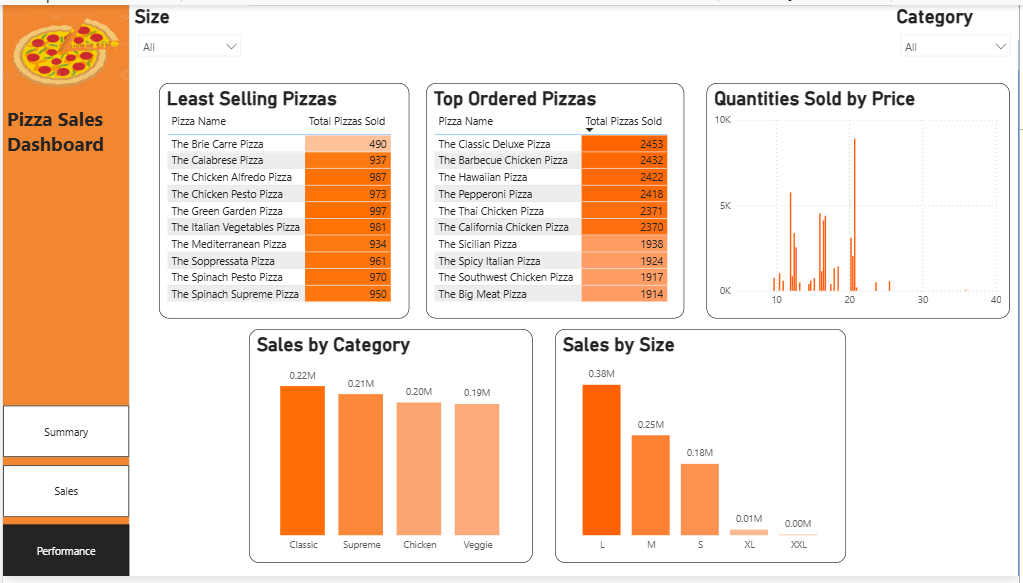

What the dashboard file says about the page in this screenshot:
{"tool":"powerbi","page":{"name":"Performance","canvas":[1280,720],"ordinal":2},"visuals":[{"type":"shape","box":[159.1,0,1121.4,720.5],"z":0},{"type":"image","box":[0,0,159.1,120.9],"z":1000},{"type":"pageNavigator","box":[0,504.2,159.1,216.3],"z":2000},{"type":"textbox","box":[0,120.9,159.1,76.3],"z":3000},{"type":"clusteredColumnChart","title":"Sales by Category","fields":{"Y":["Calculations.Total Sales"],"Category":["pizza_types.category"]},"box":[309.9,408.2,357.2,294.8],"z":4000},{"type":"clusteredColumnChart","title":"Sales by Size","fields":{"Category":["pizzas.size"],"Y":["Calculations.Total Sales"]},"box":[695.4,408.2,366.6,294.8],"z":5000},{"type":"tableEx","title":"Top Ordered Pizzas","fields":{"Values":["pizza_types.name","Calculations.Total Pizzas Sold"]},"box":[532.9,98.3,325,296.7],"z":6000},{"type":"tableEx","title":"Least Selling Pizzas","fields":{"Values":["pizza_types.name","Calculations.Total Pizzas Sold"]},"box":[196.5,98.3,315.6,296.7],"z":7000},{"type":"slicer","title":"Category","fields":{"Values":["pizza_types.category"]},"box":[1120.6,0,158.7,81.3],"z":8000},{"type":"clusteredColumnChart","title":"Quantities Sold by Price","fields":{"Category":["pizzas.price"],"Y":["Sum(order_details.quantity)"]},"box":[886.3,98.3,381.7,296.7],"z":9000},{"type":"slicer","title":"Size","fields":{"Values":["pizzas.size"]},"box":[160.6,0,149.3,81.3],"z":10000}]}

Visuals, with their boxes in screenshot pixels (x1, y1, x2, y2), scaled from the page's 1280x720 canvas onto the 1023x583 screenshot:
shape: 127/0/1022/582
image: 0/0/127/98
pageNavigator: 0/408/127/582
textbox: 0/98/127/160
"Sales by Category" clusteredColumnChart: 248/331/533/569
"Sales by Size" clusteredColumnChart: 556/331/849/569
"Top Ordered Pizzas" tableEx: 426/80/686/320
"Least Selling Pizzas" tableEx: 157/80/409/320
"Category" slicer: 896/0/1022/66
"Quantities Sold by Price" clusteredColumnChart: 708/80/1013/320
"Size" slicer: 128/0/248/66
